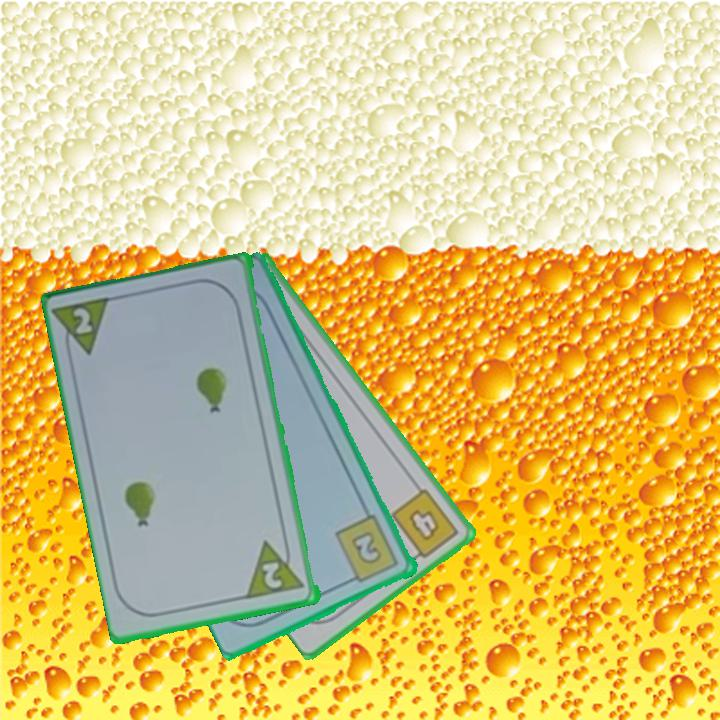2b: (332, 511, 403, 587)
2p: (259, 559, 286, 592), (70, 304, 96, 338)
4b: (387, 485, 462, 565)
